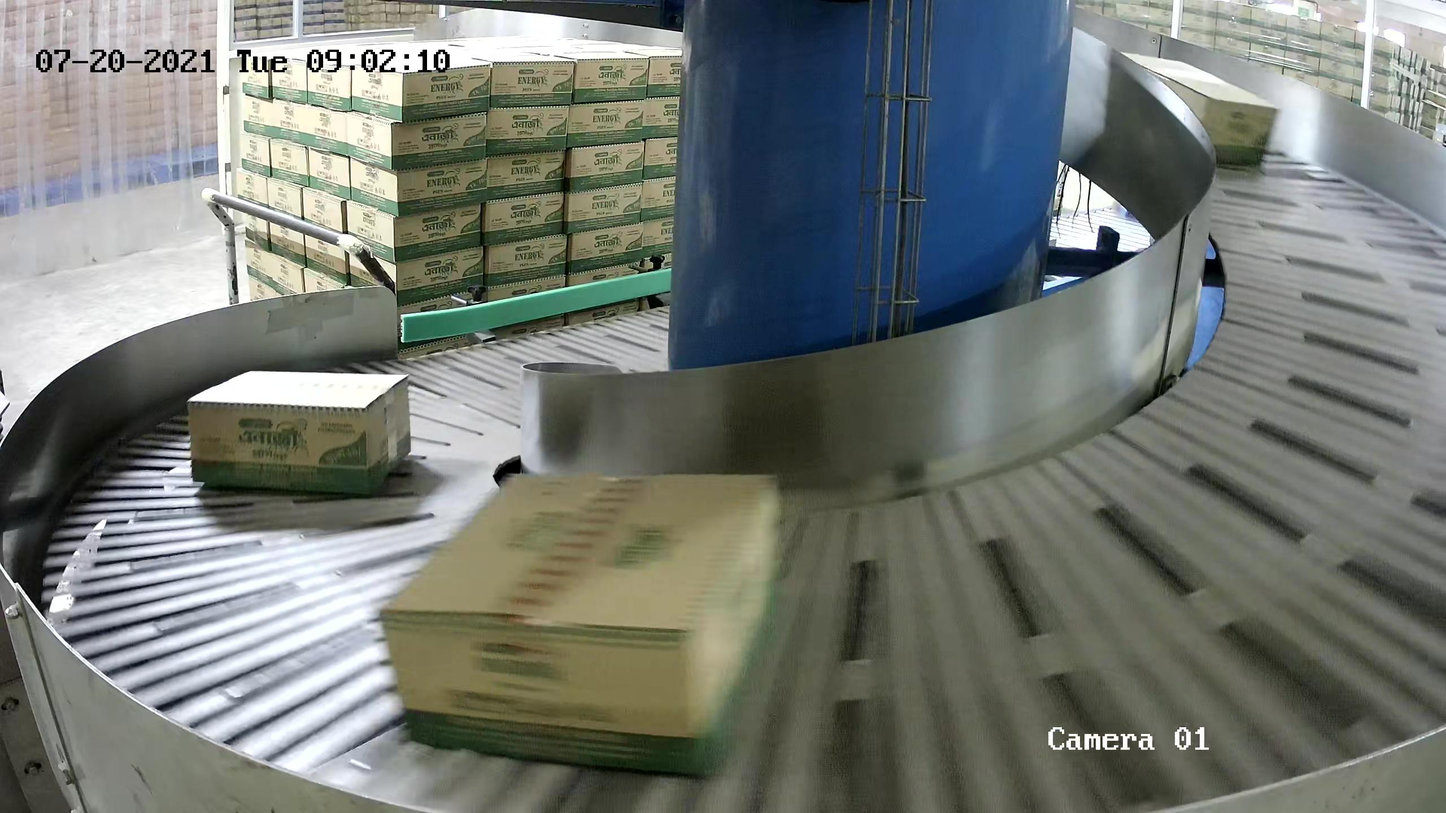Box: (376, 469, 781, 778), (185, 369, 412, 495), (1116, 50, 1280, 167)
